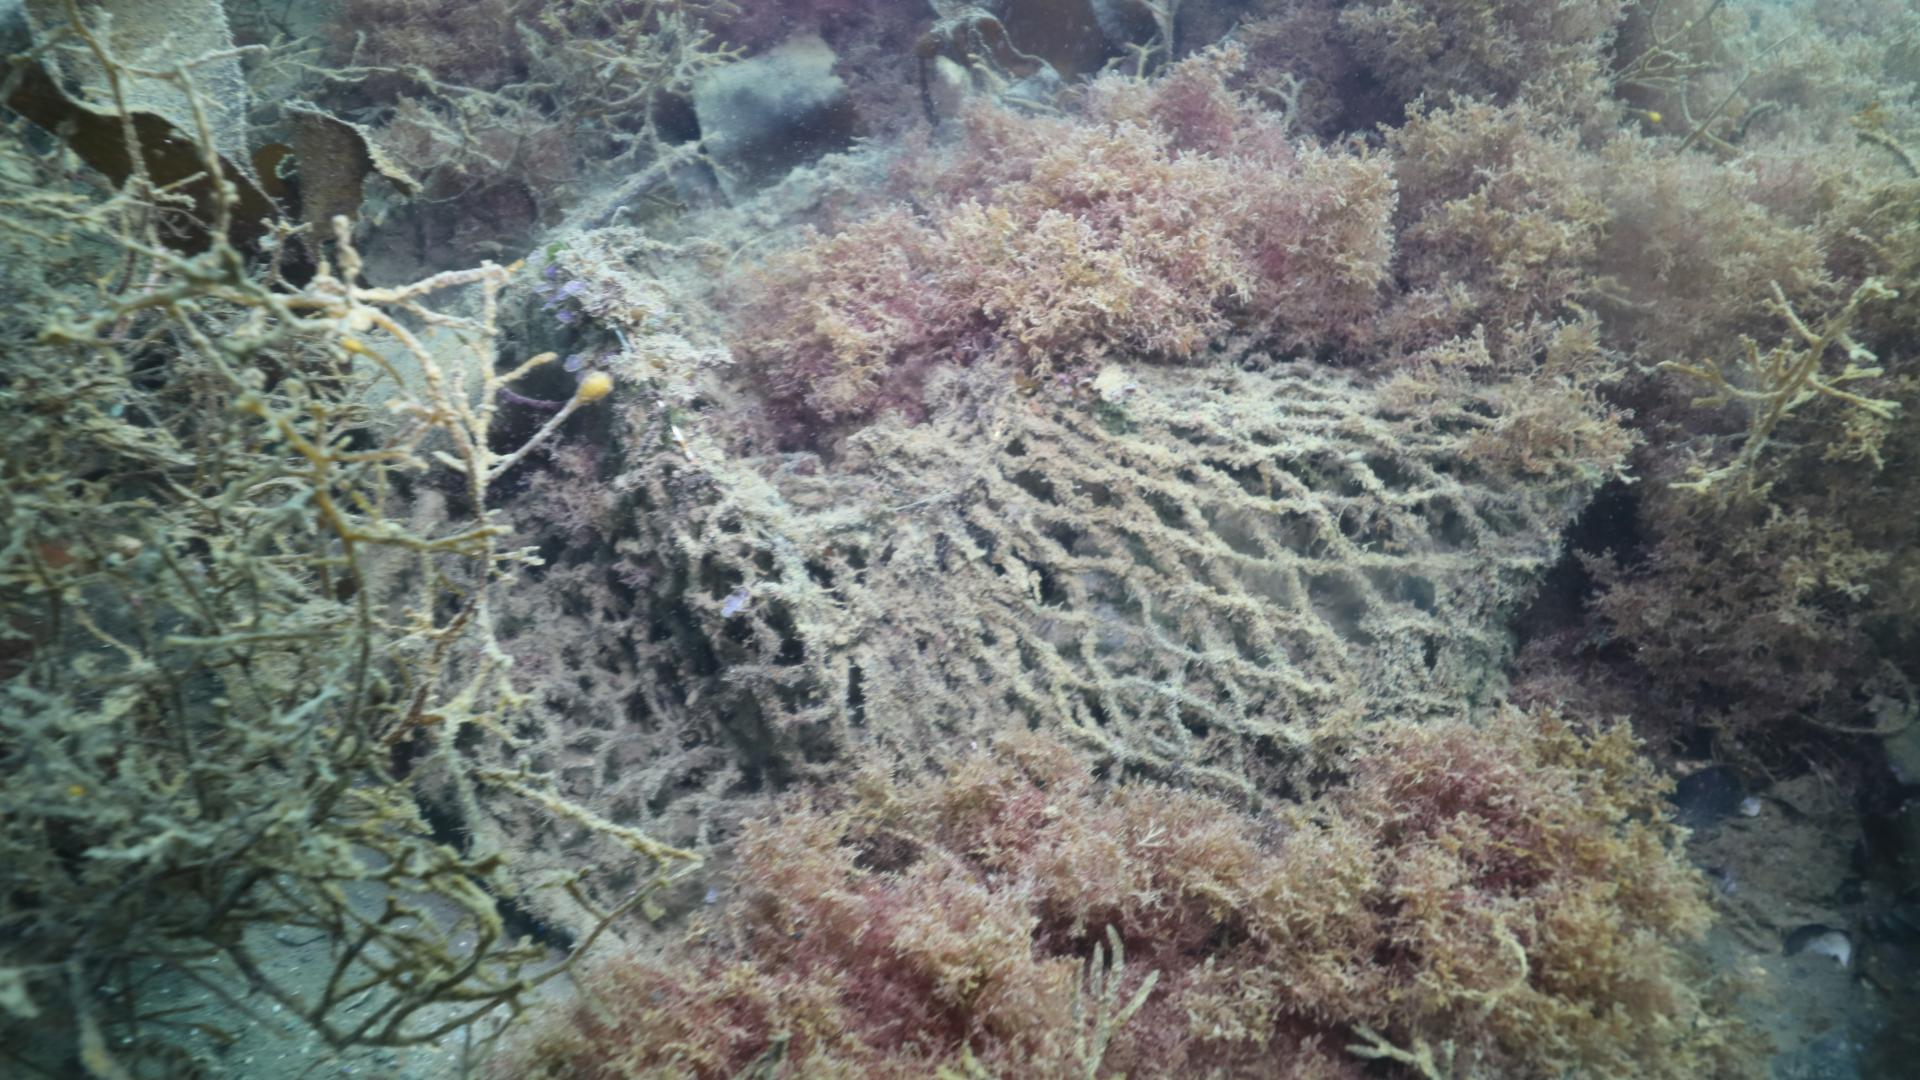fish net: (419, 225, 1607, 882)
